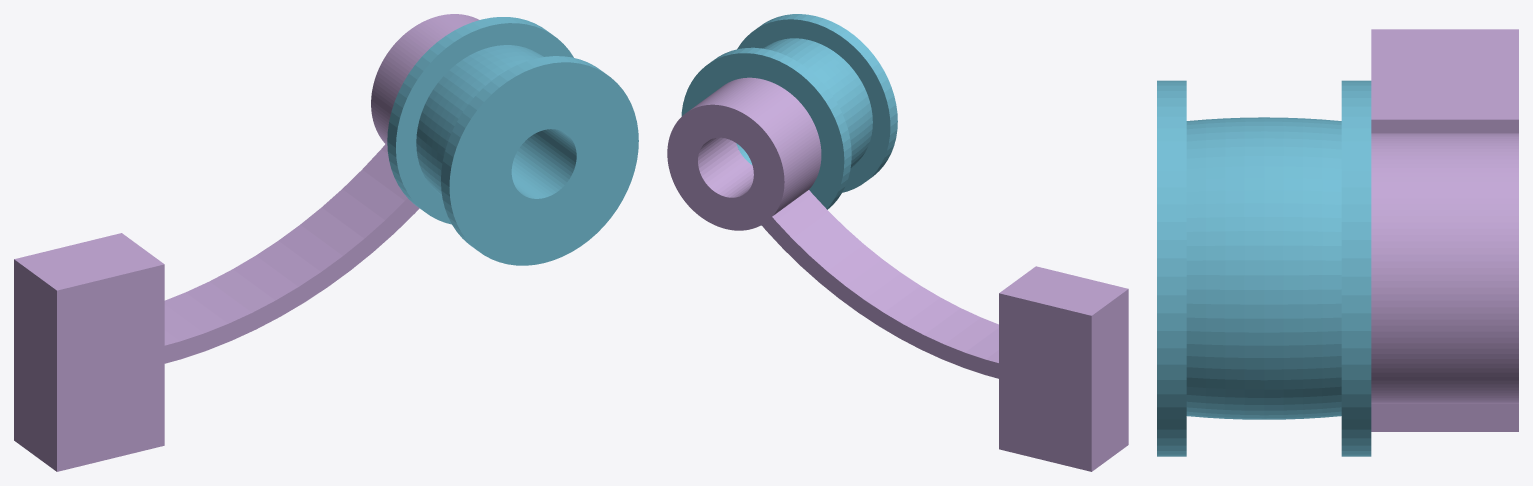
File: belt_tensioner_demo.glb
3 views of the same model, side by side, from view 1: azimuth 30°, elevation 25°; view 2: azimuth 150°, elevation 25°; view 3: azimuth 270°, elevation 25° (orthographic). The views are drawn at different scales.
Parts seen in each view (by area): view 1: tensioner_arm, idler; view 2: tensioner_arm, idler; view 3: idler, tensioner_arm.
Part boxes in pixels (box(x1,y1,x2,y2)): tensioner_arm: box(14, 14, 479, 471); idler: box(387, 17, 638, 265); tensioner_arm: box(667, 77, 1128, 471); idler: box(681, 14, 897, 225); idler: box(1157, 80, 1371, 456); tensioner_arm: box(1371, 29, 1518, 431).
Size of the model in its own units: 41.98 by 26.93 by 14.7.
